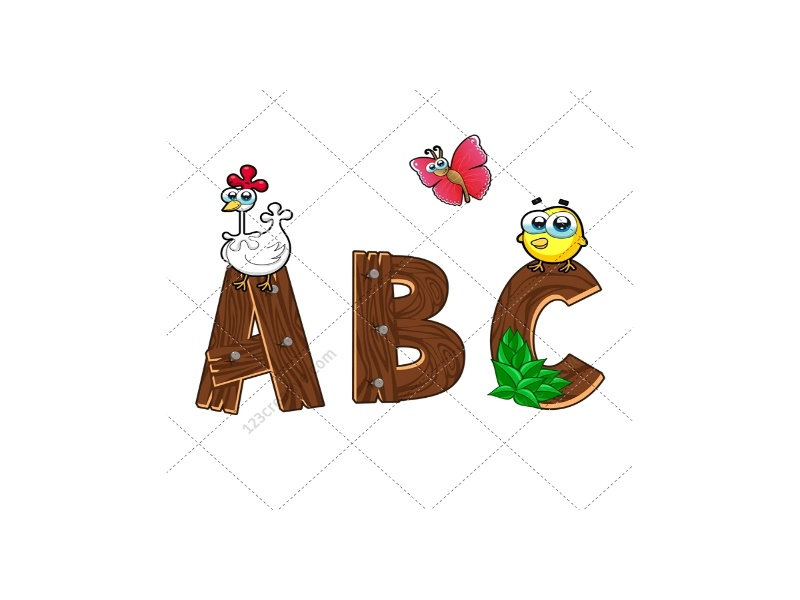letter: (196, 168, 322, 417), (478, 218, 625, 417), (344, 231, 463, 411)
